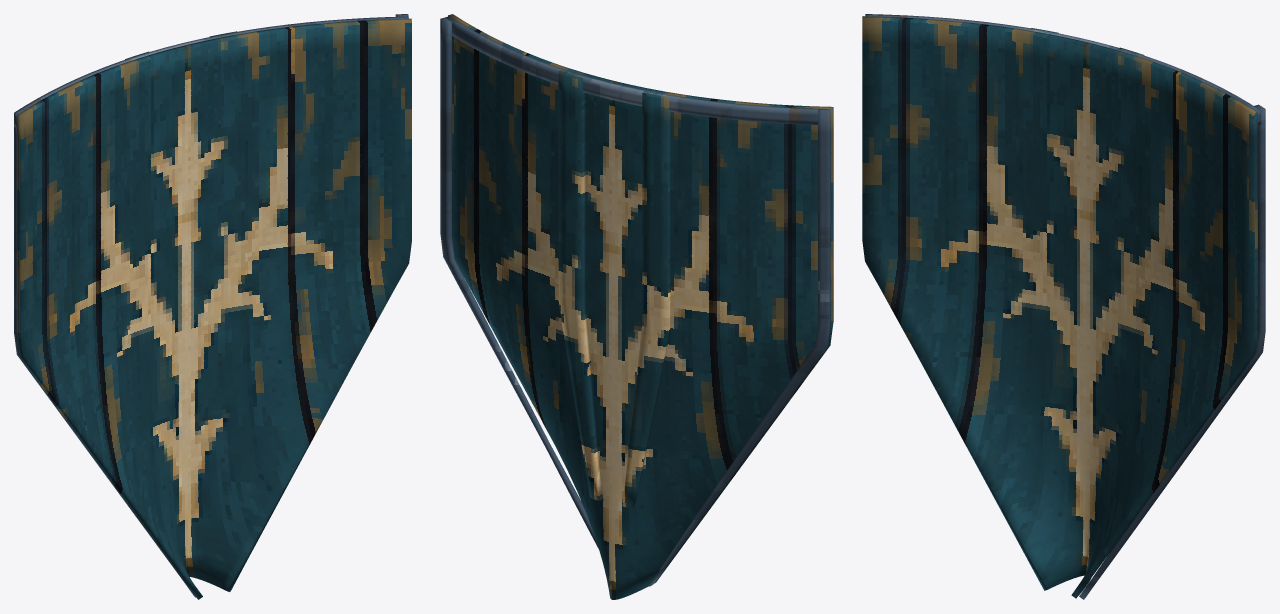
The model's file is shield.glb.
The picture shows the model from 3 angles, left to right: view 1: azimuth 30°, elevation 25°; view 2: azimuth 150°, elevation 25°; view 3: azimuth 330°, elevation 25°; orthographic projection. The views are drawn at different scales.
Parts seen in each view (by area): view 1: shield__Way_wood, shield__Way_steel; view 2: shield__Way_wood, shield__Way_linen, shield__Way_steel; view 3: shield__Way_wood, shield__Way_steel.
Part boxes in pixels (x1=…): shield__Way_wood: x1=17, y1=18, x2=411, y2=599; shield__Way_steel: x1=14, y1=14, x2=408, y2=597; shield__Way_wood: x1=448, y1=14, x2=833, y2=599; shield__Way_linen: x1=558, y1=70, x2=670, y2=507; shield__Way_steel: x1=440, y1=16, x2=830, y2=586; shield__Way_wood: x1=862, y1=16, x2=1257, y2=598; shield__Way_steel: x1=865, y1=14, x2=1265, y2=599.
Size of the model in its own units: 0.3923 by 0.5027 by 0.0595.
2 materials, 2 textured.
